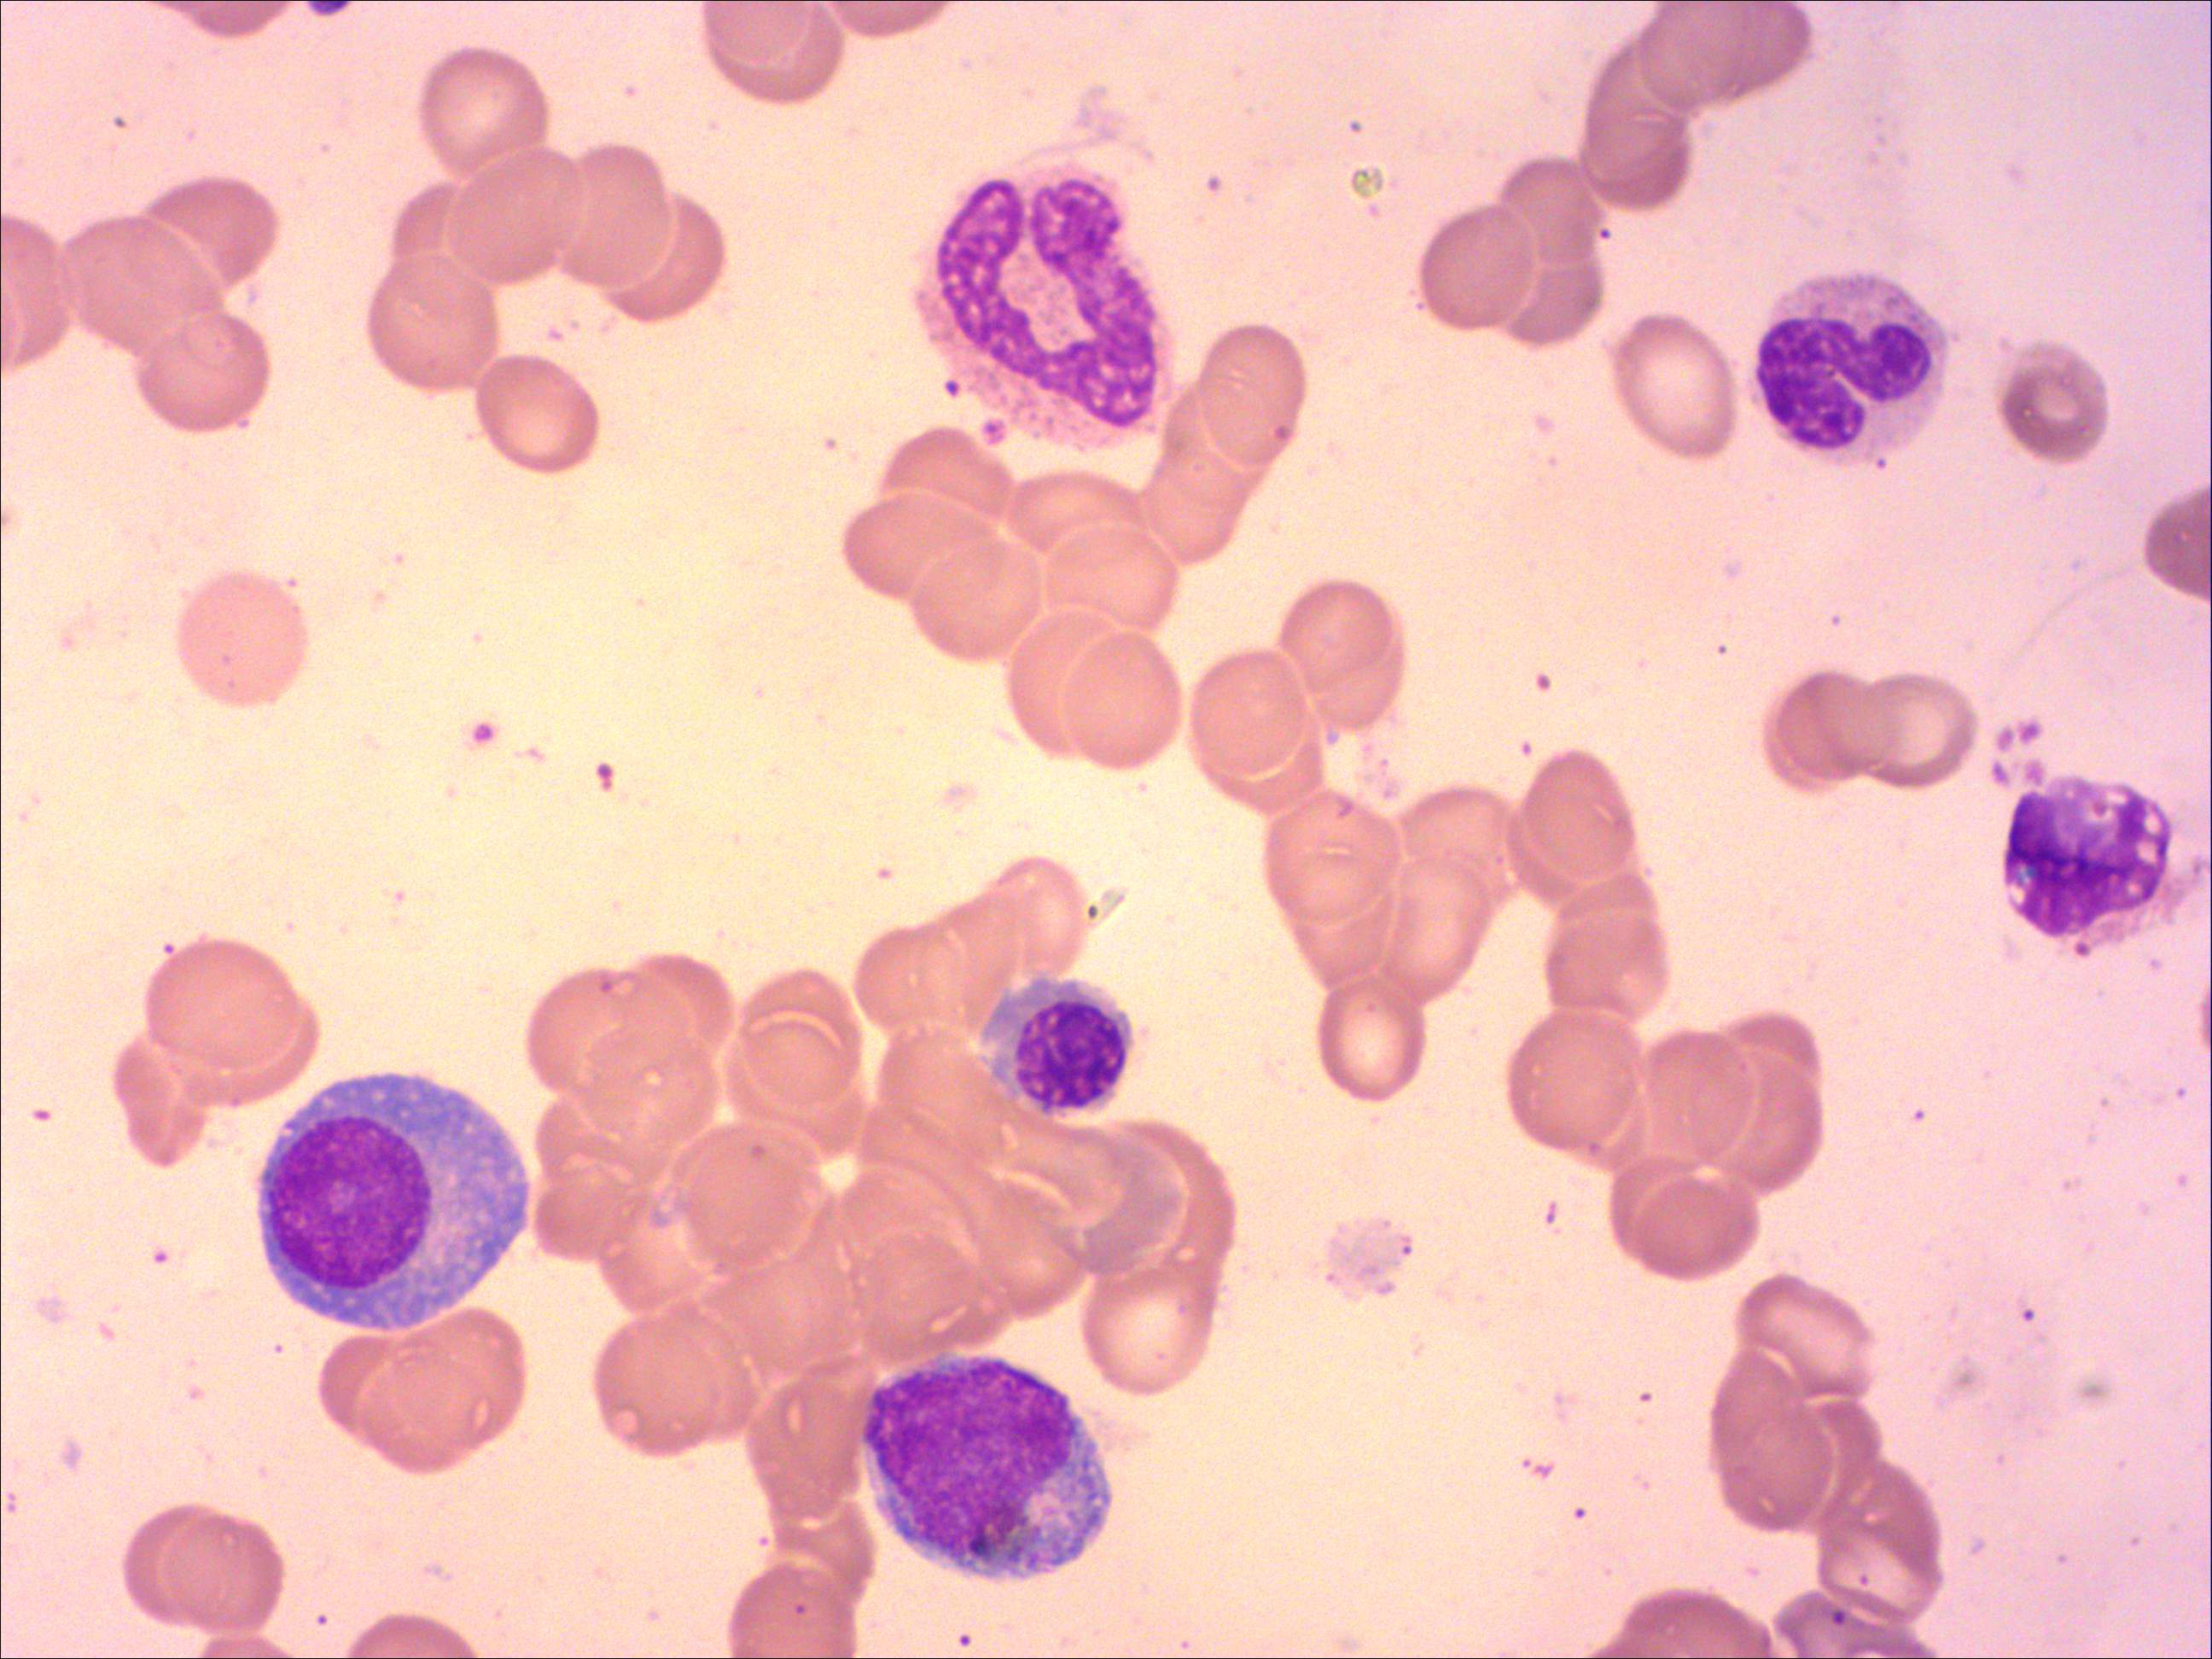24: (975, 969, 1137, 1122)
5: (906, 157, 1186, 458), (1742, 265, 1956, 476)
51: (253, 1068, 535, 1338), (855, 1351, 1116, 1586)
x: (1998, 770, 2184, 955)
